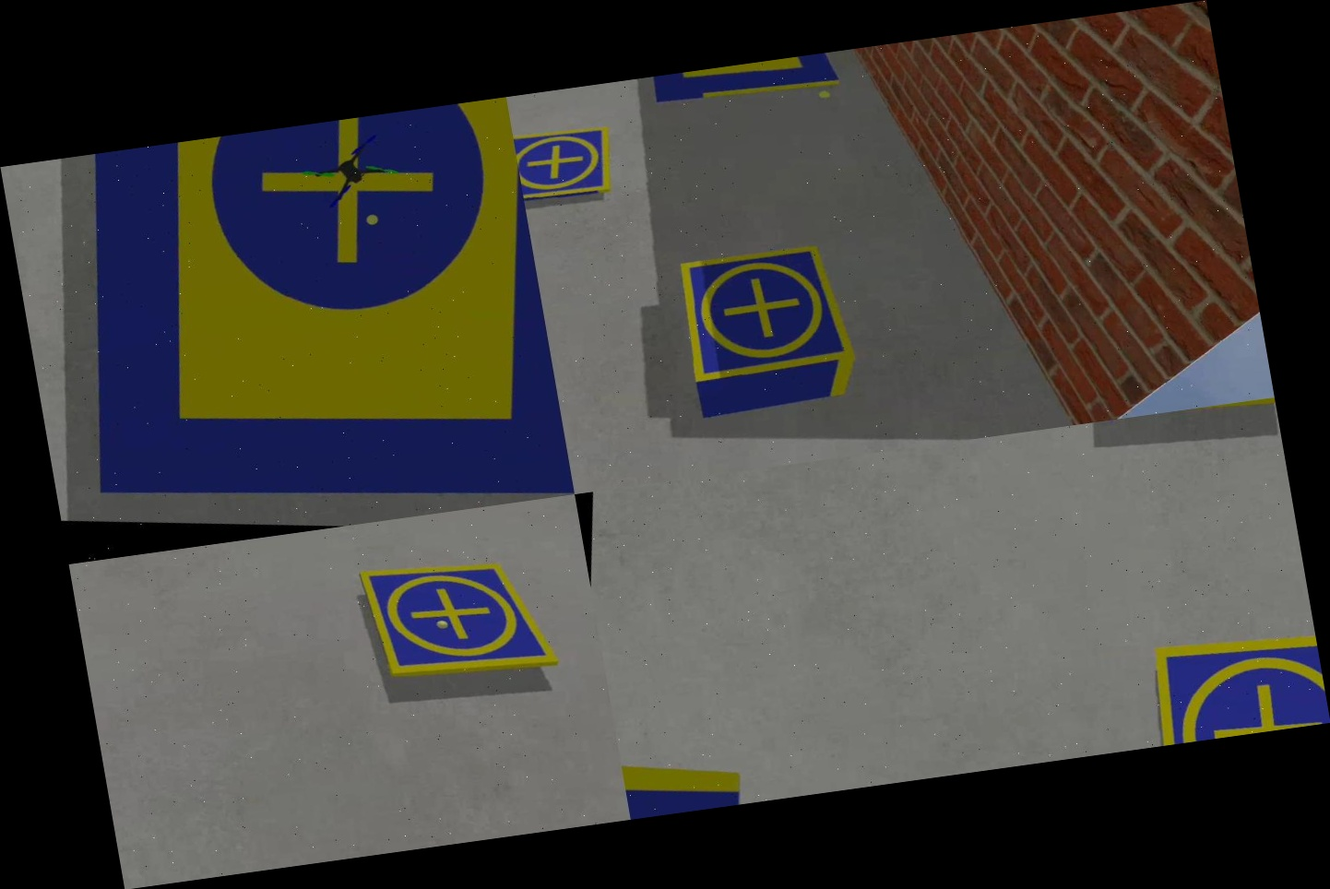large_base: (20, 97, 575, 562), (632, 49, 864, 134)
small_base: (654, 218, 885, 410), (340, 534, 580, 704), (1113, 607, 1330, 749), (511, 109, 624, 217), (1090, 397, 1277, 444)
